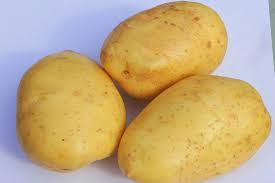potato: (124, 78, 265, 178), (15, 44, 118, 168), (96, 0, 236, 84)
